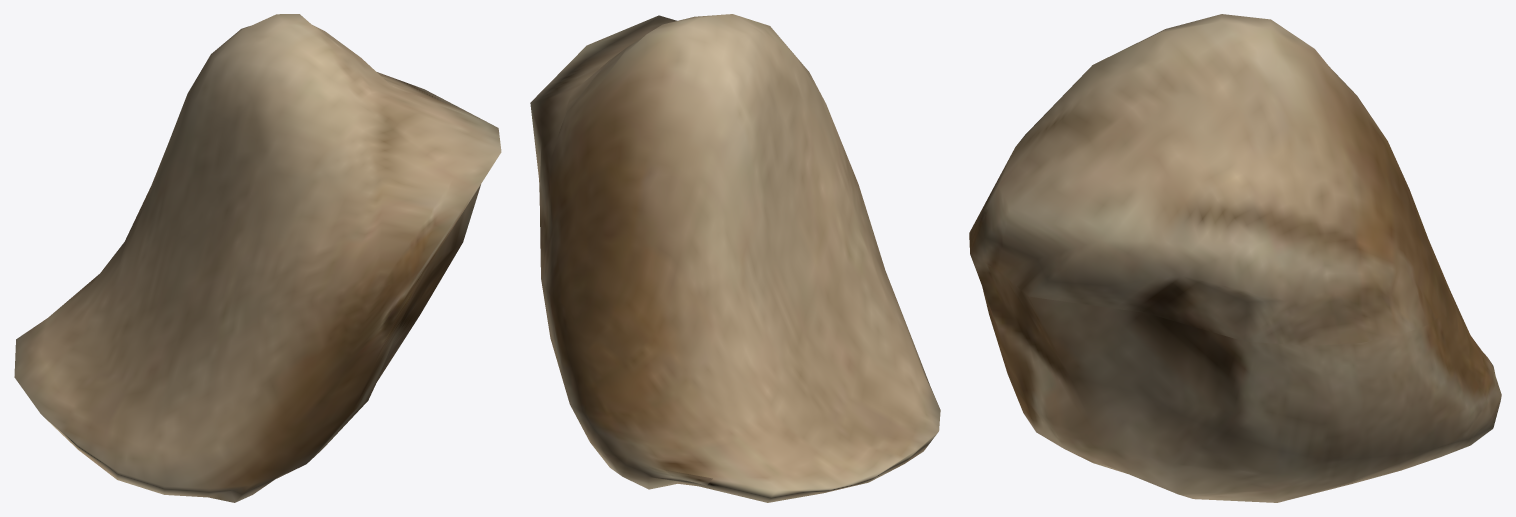
File: Maxilary_Premolar5.glb
The picture shows the model from 3 angles, left to right: view 1: azimuth 30°, elevation 25°; view 2: azimuth 150°, elevation 25°; view 3: azimuth 270°, elevation 25°; orthographic projection. The views are drawn at different scales.
Parts seen in each view (by area): view 1: Premolar11; view 2: Premolar11; view 3: Premolar11.
Boxes of the visible parts, bbox=[...] form: Premolar11: bbox=[14, 14, 501, 502]; Premolar11: bbox=[530, 14, 940, 502]; Premolar11: bbox=[969, 14, 1501, 502].
Bounding box in the file's own units: 0.0235 × 0.0243 × 0.024.
Materials: 1 (1 with a texture image).
